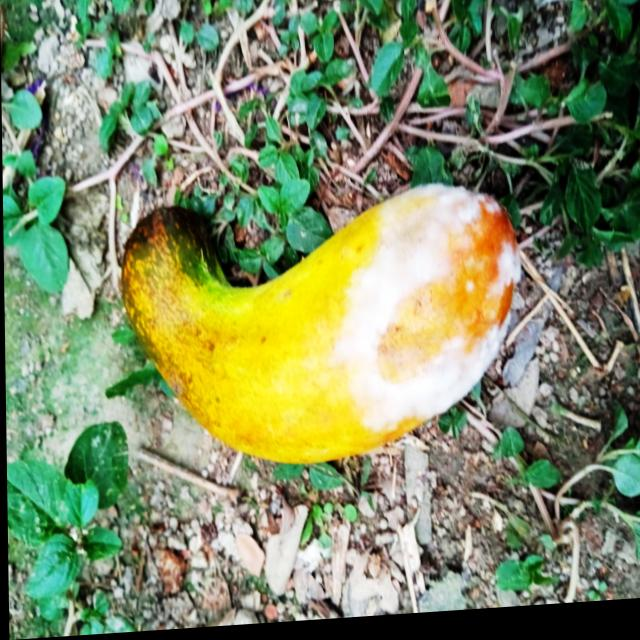Pythium-Fruit-Rot: (331, 174, 520, 441)
